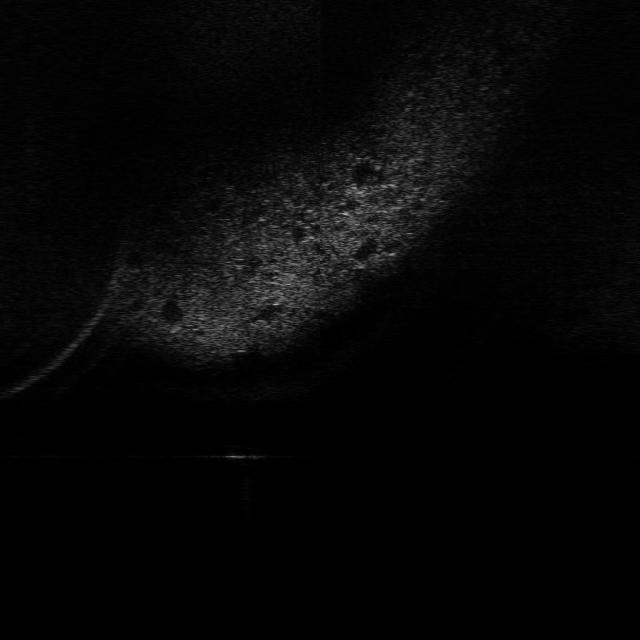cube: (212, 441, 266, 466)
